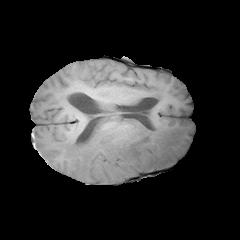glioma: (58, 116, 187, 178)
